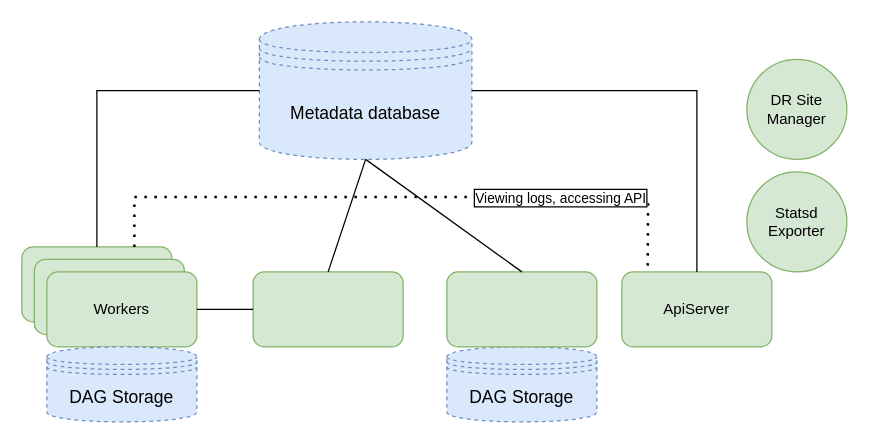
This 869x444 diagram has some shape labels left out. Here are the shapes that lost their labels. From the top down, the centre of each, then its label:
At (327,309): "Scheduler and executor".
At (521,309): "DAG processor".
